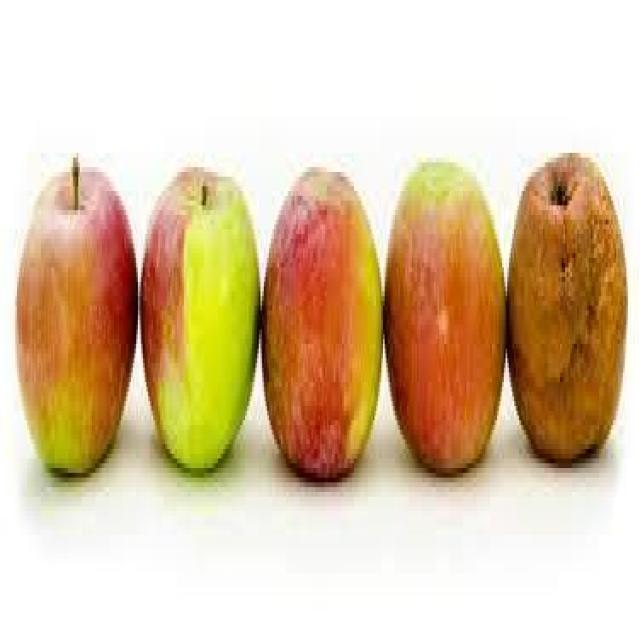maca: (13, 148, 138, 473), (383, 153, 506, 473), (259, 162, 383, 478), (506, 148, 626, 459), (140, 162, 260, 468)
